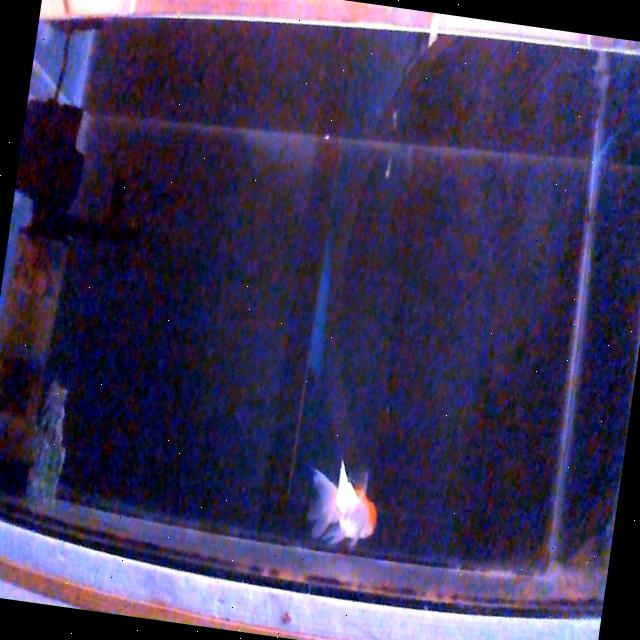fish: (300, 454, 386, 556)
